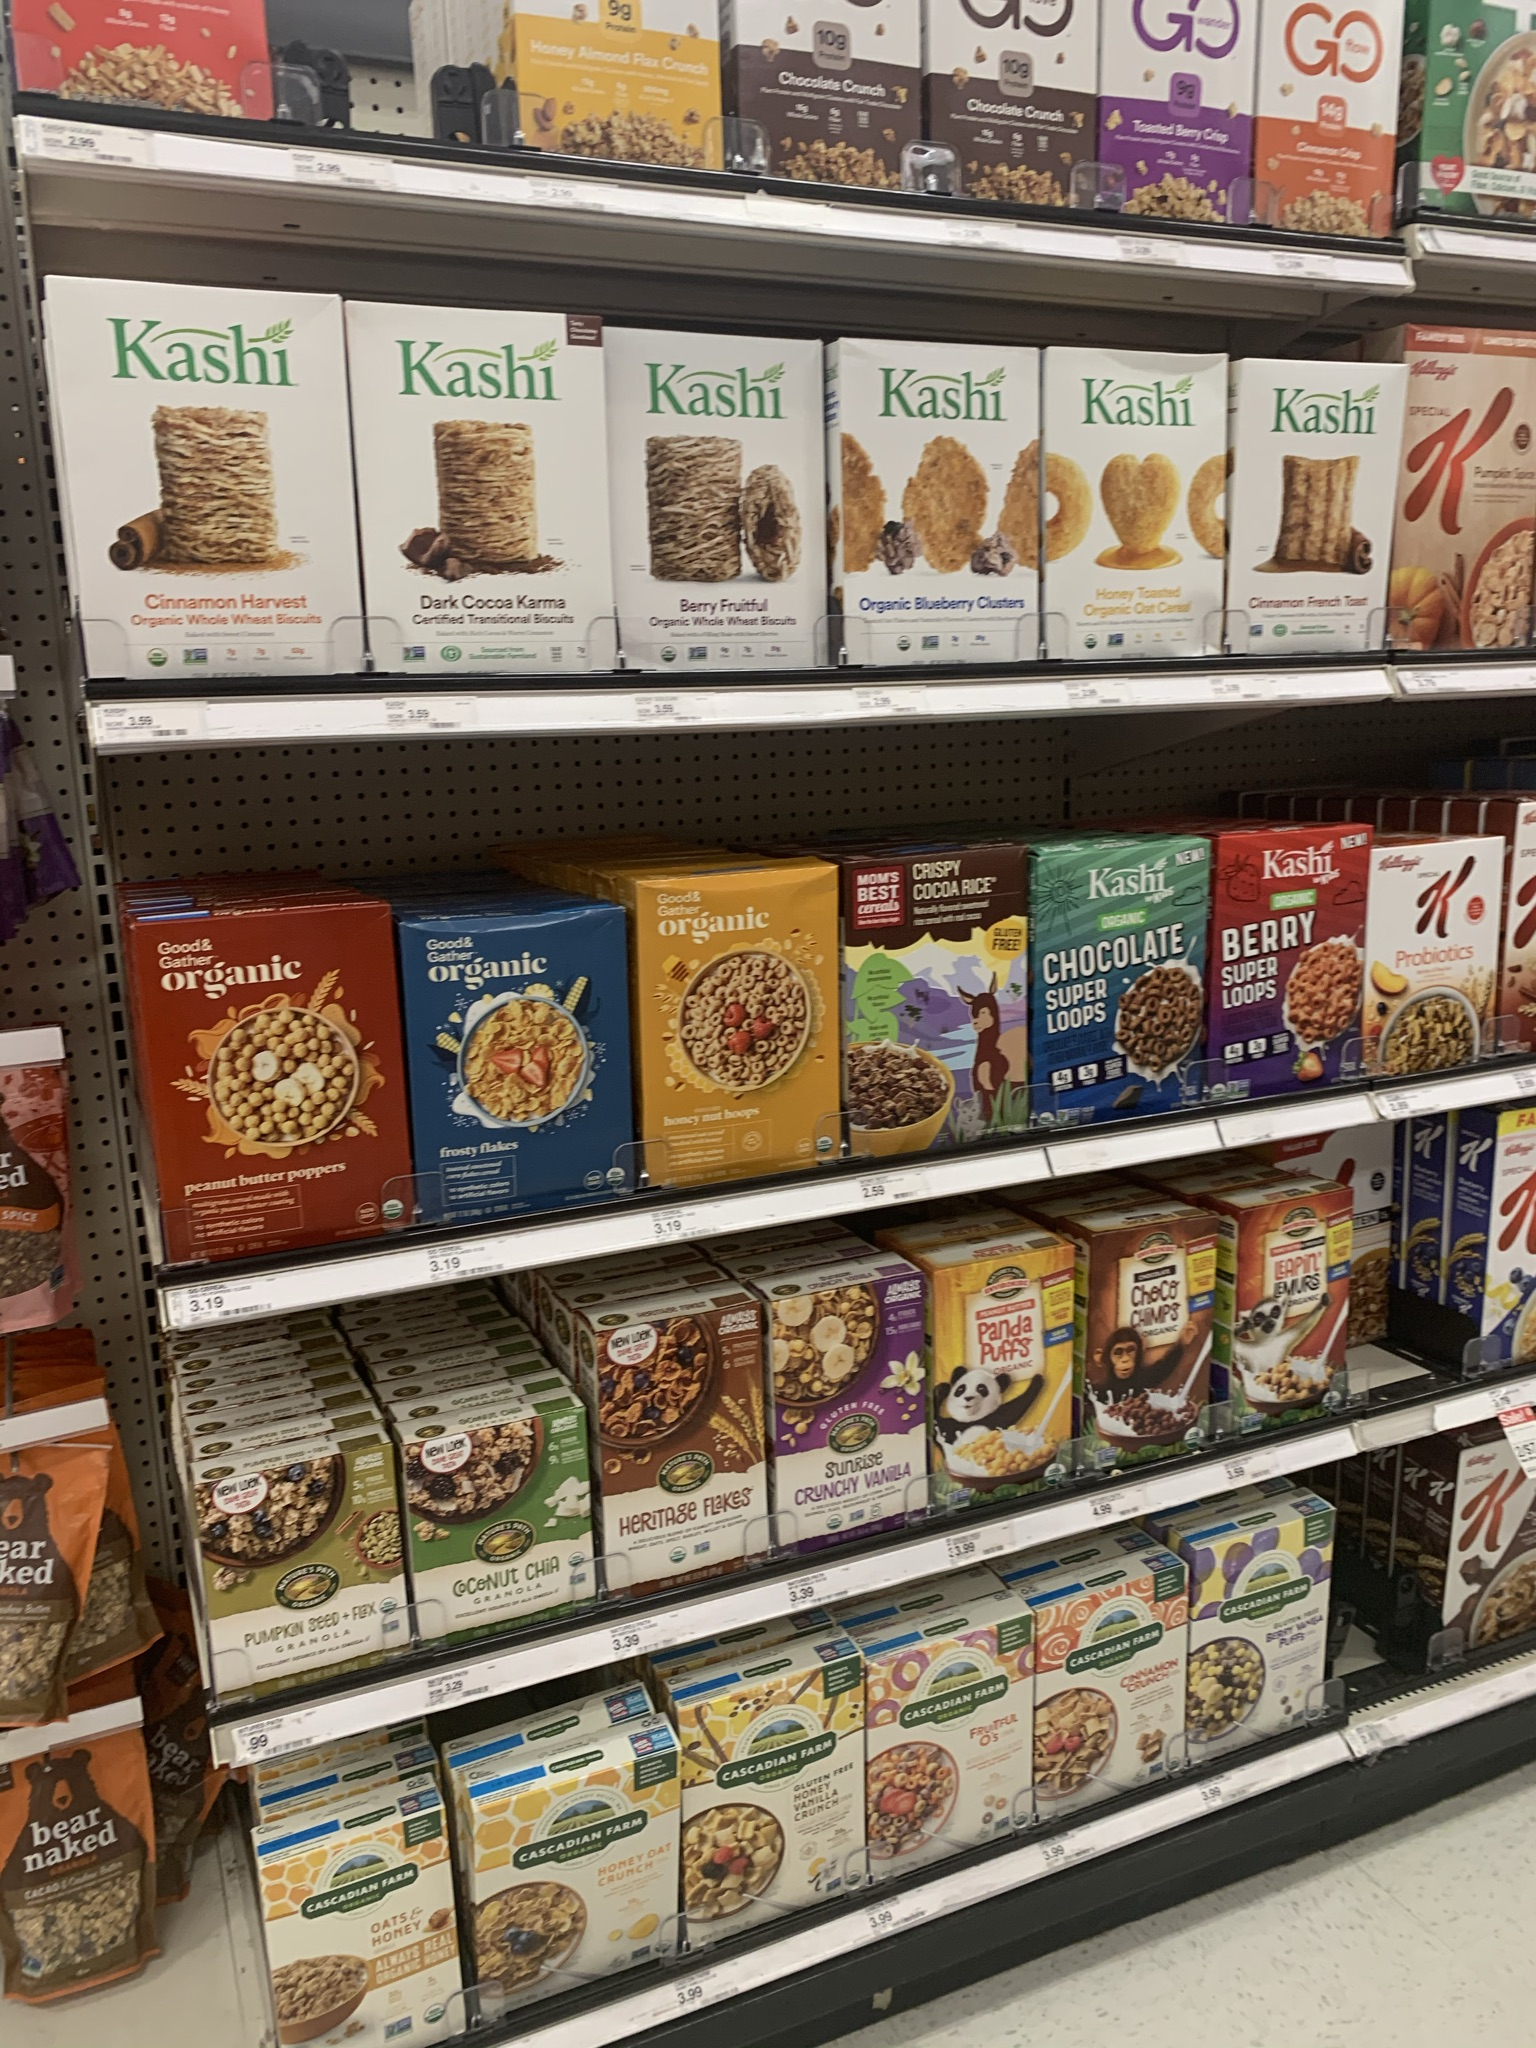cereal: (132, 926, 405, 1259), (405, 908, 644, 1230), (632, 874, 849, 1198), (845, 842, 1021, 1166), (1025, 832, 1204, 1143), (1197, 805, 1362, 1130), (1405, 332, 1536, 672), (933, 1255, 1079, 1501), (1079, 1227, 1226, 1467), (1365, 830, 1497, 1089), (1226, 1188, 1362, 1430)
